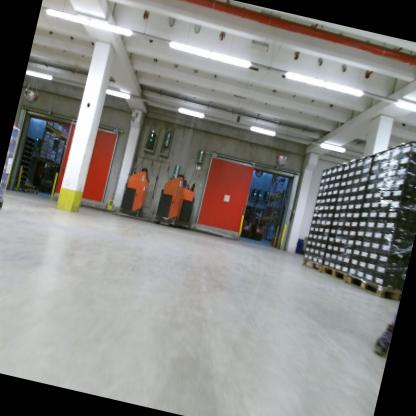pallet: (344, 270, 404, 301), (318, 264, 351, 285), (300, 255, 324, 272), (18, 185, 41, 198), (37, 154, 45, 161), (46, 122, 53, 130)
pallet_truck: (115, 157, 165, 224), (153, 168, 190, 229), (173, 175, 208, 233), (250, 206, 273, 247), (237, 203, 259, 238)
